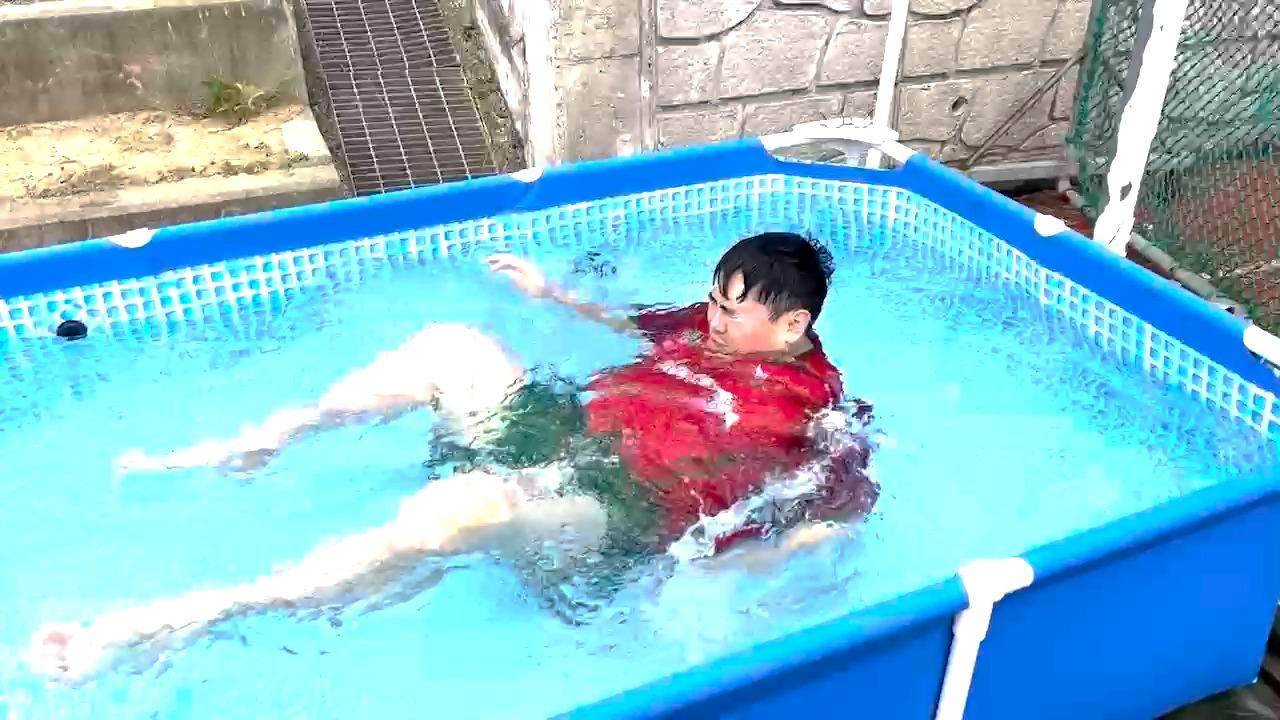Drowning: (91, 189, 900, 660)
